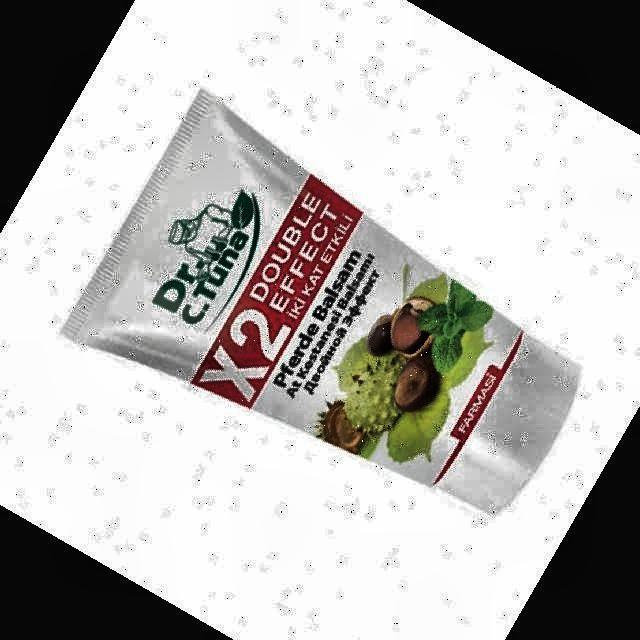plastic: (64, 91, 579, 511)
